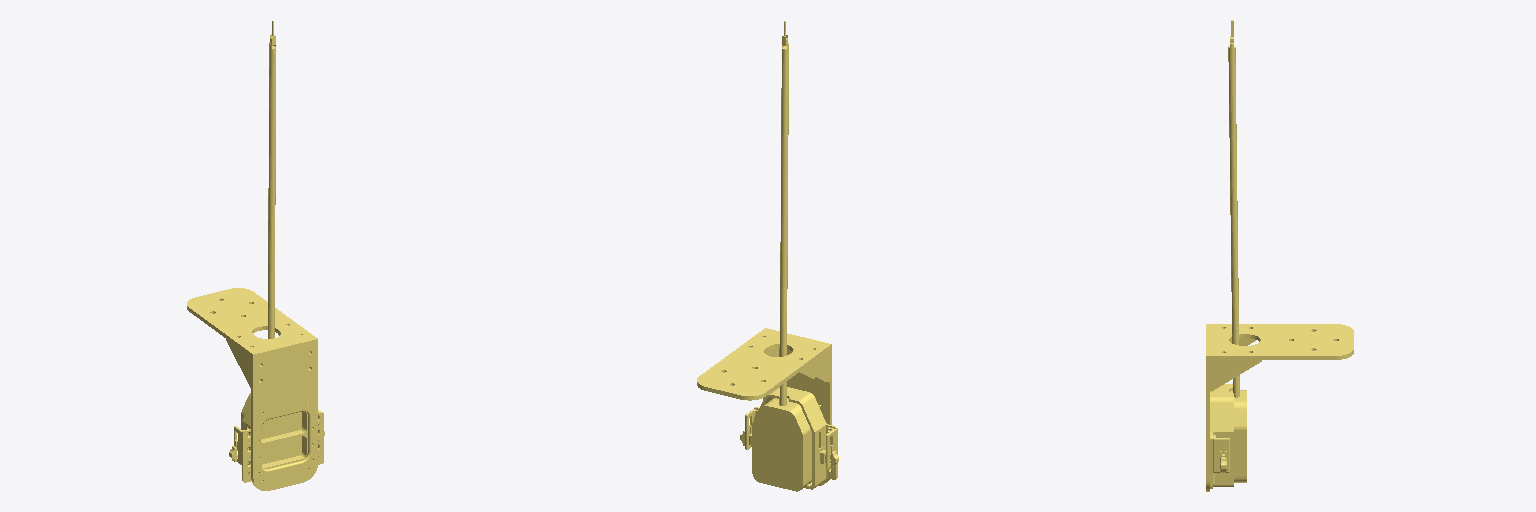
The robot description file, URDF, robot "panda":
<?xml version="1.0" ?>
<!-- =================================================================================== -->
<!-- |    This document was autogenerated by xacro from panda_arm.urdf.xacro           | -->
<!-- |    EDITING THIS FILE BY HAND IS NOT RECOMMENDED                                 | -->
<!-- =================================================================================== -->
<robot name="panda" xmlns:xacro="http://www.ros.org/wiki/xacro">
  <link name="world"/>
  <joint name="world_to_r_robot" type="fixed">
    <origin rpy="0 0 0" xyz="0 0 0"/>
    <parent link="world"/>
    <child link="instrument1"/>
    <axis xyz="0 0 0"/>
  </joint>
  <link name="instrument1">
    <visual>
      <geometry>
        <mesh filename="package://franka_description/meshes/instrument/instrument1.stl"/>
      </geometry>
      <material name="">
        <color rgba="1 0.93 0.54 1" />
      </material>
    </visual>
    <collision>
      <geometry>
        <mesh filename="package://franka_description/meshes/instrument/instrument1.stl"/>
      </geometry>
    </collision>
  </link>

  <link name="temp">
  </link>
  <joint name="temp_joint" type="fixed">
    <origin rpy="-0.0117919678 0 0" xyz="0 -0.09102 0.36"/>
    <parent link="instrument1"/>
    <child link="temp"/>
    <axis xyz="0 0 0"/>
  </joint>


  <link name="instrument2">
    <visual>
      <geometry>
        <mesh filename="package://franka_description/meshes/instrument/2.stl"/>
      </geometry>
      <material name="">
        <color rgba="1 0.93 0.54 1" />
      </material>
    </visual>
    <collision>
      <geometry>
        <mesh filename="package://franka_description/meshes/instrument/2.stl"/>
      </geometry>
    </collision>
  </link>
  <joint name="instrument1_to_2" type="revolute">
    <origin rpy="0 0 0" xyz="0 0 0"/>
    <parent link="temp"/>
    <child link="instrument2"/>
    <axis xyz="0 0 1"/>
    <limit effort="12" lower="-3.14" upper="3.14" velocity="2.6100"/>
  </joint>

  <link name="instrument3">
    <visual>
      <geometry>
        <mesh filename="package://franka_description/meshes/instrument/3.stl"/>
      </geometry>
      <material name="">
        <color rgba="1 0.93 0.54 1" />
      </material>
    </visual>
    <collision>
      <geometry>
        <mesh filename="package://franka_description/meshes/instrument/3.stl"/>
      </geometry>
    </collision>
  </link>
  <joint name="instrument2_to_3" type="revolute">
    <origin rpy="0 0 0" xyz="0 0 0.009"/>
    <parent link="instrument2"/>
    <child link="instrument3"/>
    <axis xyz="1 0 0"/>
    <limit effort="12" lower="-1.5" upper="1.5" velocity="2.6100"/>
  </joint>

  <link name="instrument4">
    <visual>
      <geometry>
        <mesh filename="package://franka_description/meshes/instrument/4.stl"/>
      </geometry>
      <material name="">
        <color rgba="1 0.93 0.54 1" />
      </material>
    </visual>
    <collision>
      <geometry>
        <mesh filename="package://franka_description/meshes/instrument/4.stl"/>
      </geometry>
    </collision>
  </link>
  <joint name="instrument3_to_4" type="revolute">
    <origin rpy="0 0 0" xyz="0 0 0.009"/>
    <parent link="instrument3"/>
    <child link="instrument4"/>
    <axis xyz="0 1 0"/>
    <limit effort="12" lower="-1.5" upper="1.5" velocity="2.6100"/>
  </joint>

  <link name="r_tool"/>
  <joint name="instrument4_to_tool" type="fixed">
    <origin rpy="0 0 0" xyz="0 0 0.022"/>
    <parent link="instrument4"/>
    <child link="r_tool"/>
    <axis xyz="0 0 0"/>
  </joint>

</robot>

--- Render facts (derived) ---
3 views of the same robot in one strip: view 1: azimuth 30°, elevation 25°; view 2: azimuth 150°, elevation 25°; view 3: azimuth 270°, elevation 25° (orthographic).
Robot: panda — 7 links, 6 joints (3 revolute, 3 fixed); root link world; default pose: every joint at zero.
Visible links, largest first — view 1: instrument1; view 2: instrument1; view 3: instrument1.
Boxes of the visible links, x1,y1,x2,y2 form: instrument1: [187, 51, 324, 490]; instrument1: [697, 53, 838, 491]; instrument1: [1206, 51, 1353, 491].
Bounding box of the posed robot: 0.122 × 0.165 × 0.5665 m (x, y, z).
4 mesh visuals loaded from 4 distinct referenced files (4 binary STL).